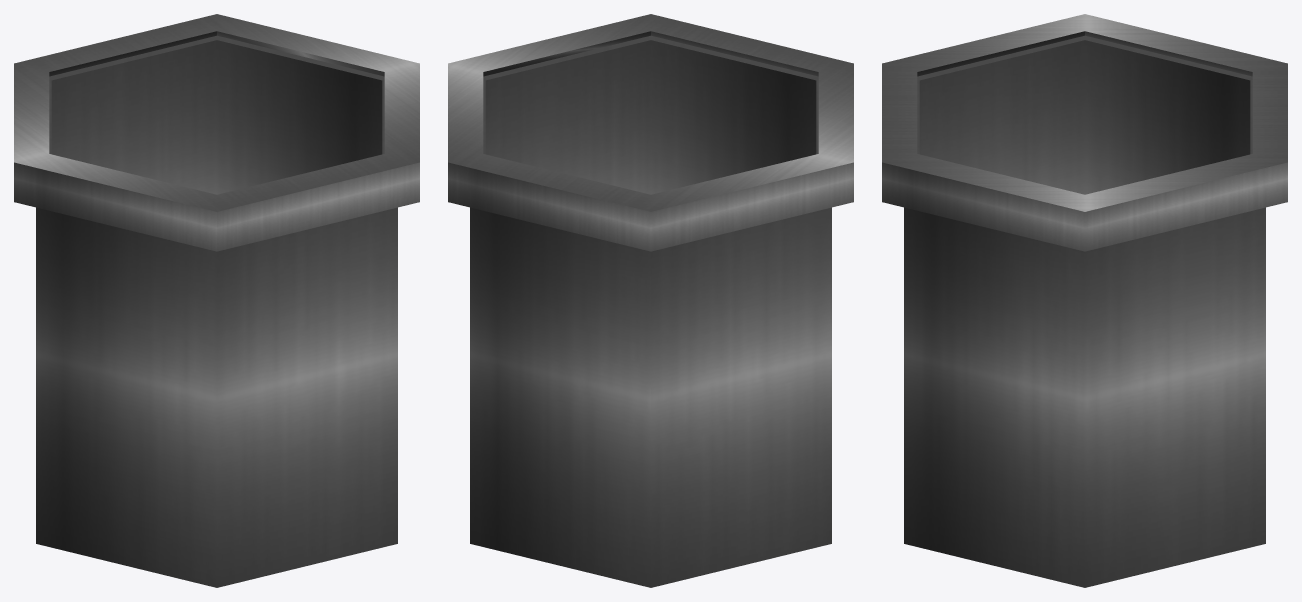
File: Utensil_Holder.FBX
3 renders of one model, left to right at view 1: azimuth 30°, elevation 25°; view 2: azimuth 150°, elevation 25°; view 3: azimuth 270°, elevation 25°, orthographic.
Parts seen in each view (by area): view 1: Can; view 2: Can; view 3: Can.
Part boxes in pixels (x1,y1,x2,y2): Can: (14,14,419,587); Can: (448,14,853,587); Can: (882,14,1287,587).
Size of the model in its own units: 78.45 by 71.46 by 67.94.
